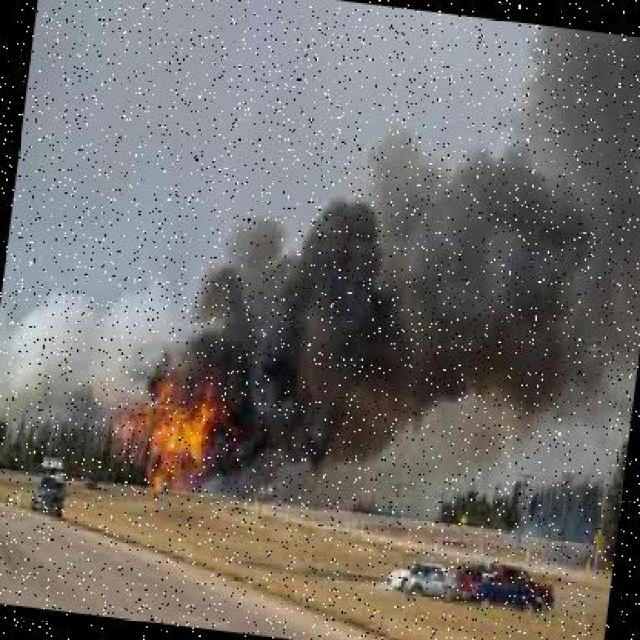fire: (102, 371, 240, 495)
